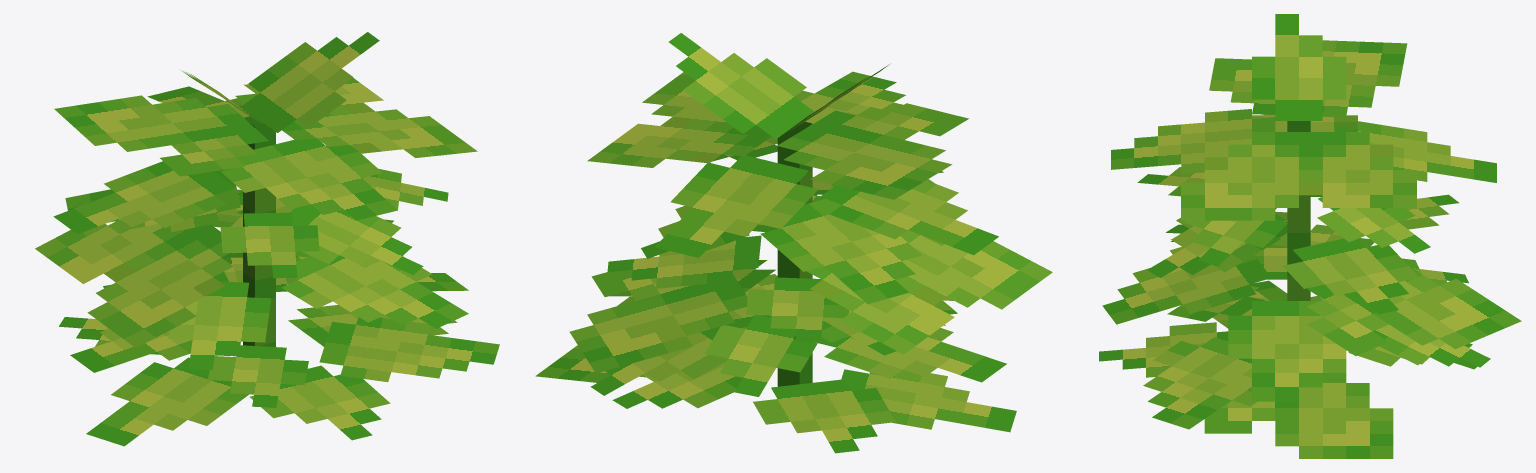
File: Strawberry_Plant_Final.obj
3 views of the same model, side by side, from view 1: azimuth 30°, elevation 25°; view 2: azimuth 150°, elevation 25°; view 3: azimuth 270°, elevation 25° (orthographic). The views are drawn at different scales.
Visible parts, largest first — view 1: plane, cube; view 2: plane, cube; view 3: plane, cube.
Boxes of the visible parts, left/top/right/bottom form: plane: left=35, top=32, right=499, bottom=446; cube: left=243, top=116, right=275, bottom=346; plane: left=535, top=33, right=1052, bottom=453; cube: left=777, top=121, right=812, bottom=386; plane: left=1099, top=14, right=1521, bottom=458; cube: left=1287, top=121, right=1310, bottom=300.
Bounding box in the file's own units: 1.18 × 0.9509 × 1.17.
